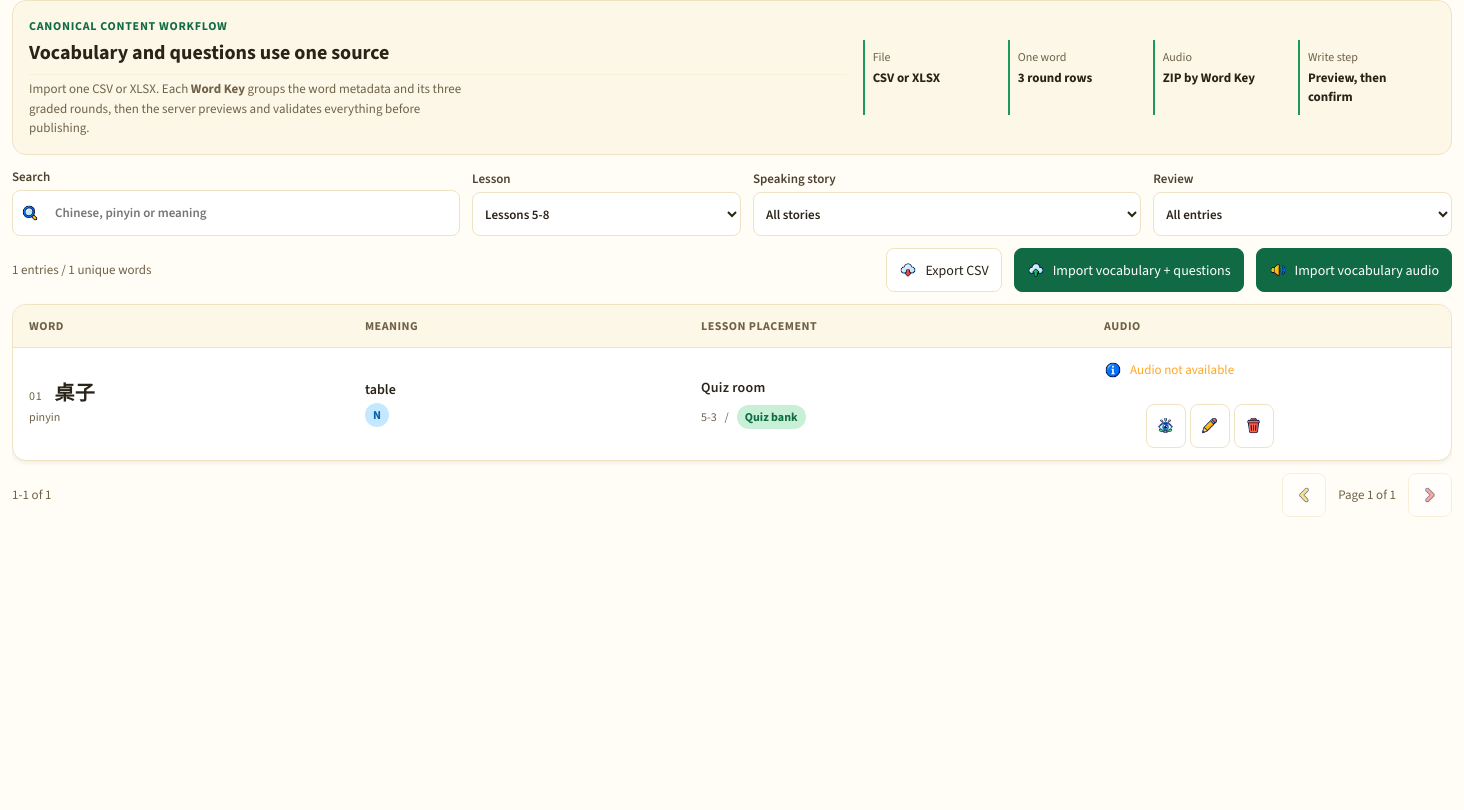
Test: Admin vocabulary page › deletes a quiz word and removes it from the inventory
The image size is (1464, 810).
Expected: the text "1 entries / 1 unique words" is shown, [12,260,152,280]
Select "5-3 Quiz room" in the dropdown labelled "Speaking story" at (947, 214), box [753,192,1141,236]
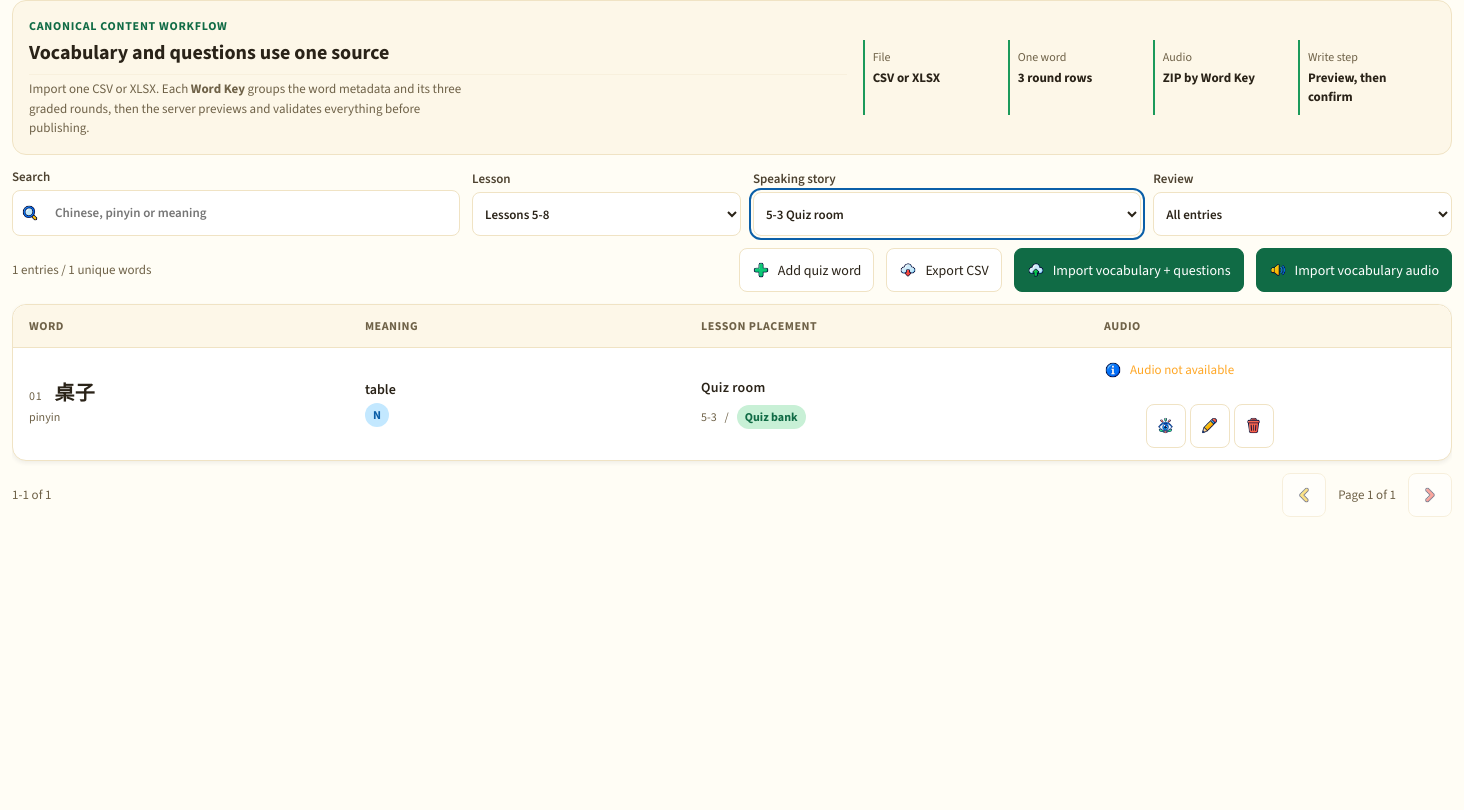
Click the button named "Delete 桌子, quiz vocabulary" at (1254, 426), box [1234,404,1274,448]
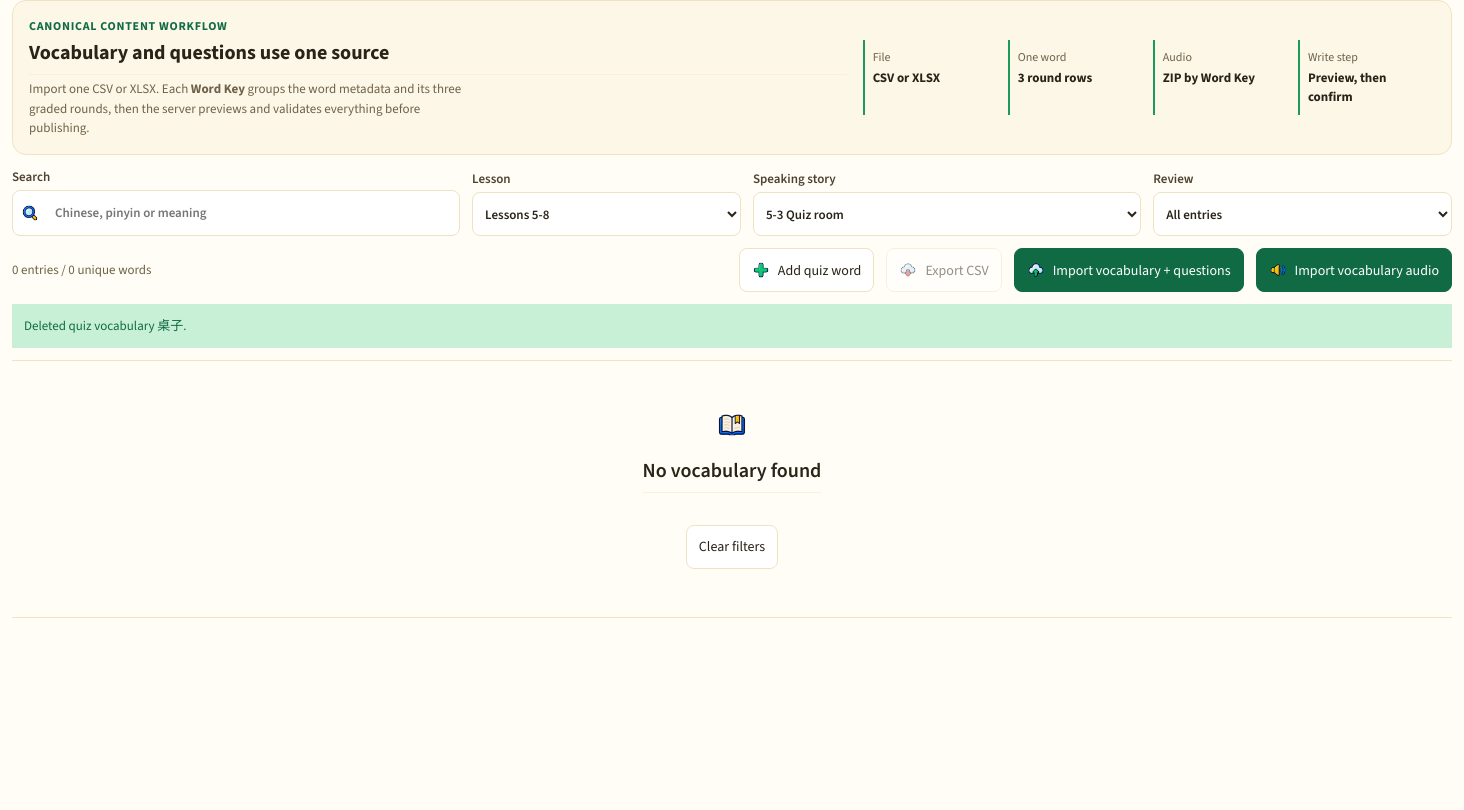
Expected: the heading "No vocabulary found" is shown, [643,456,821,492]
